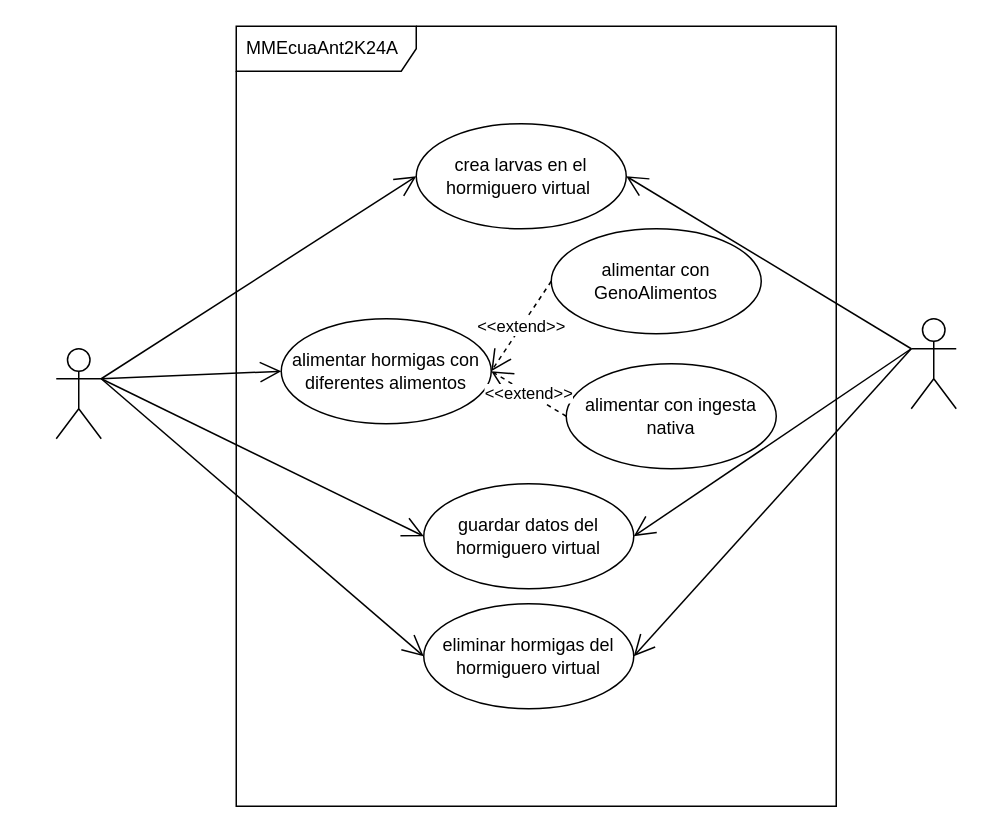
This 992x833 diagram has some shape labels left out. Here are the shapes that lost their labels. From the top down, the centre of each, then its label:
the point at 933,363: Sistema
the point at 78,393: Entomólogos
